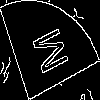M: (25, 25, 69, 81)
